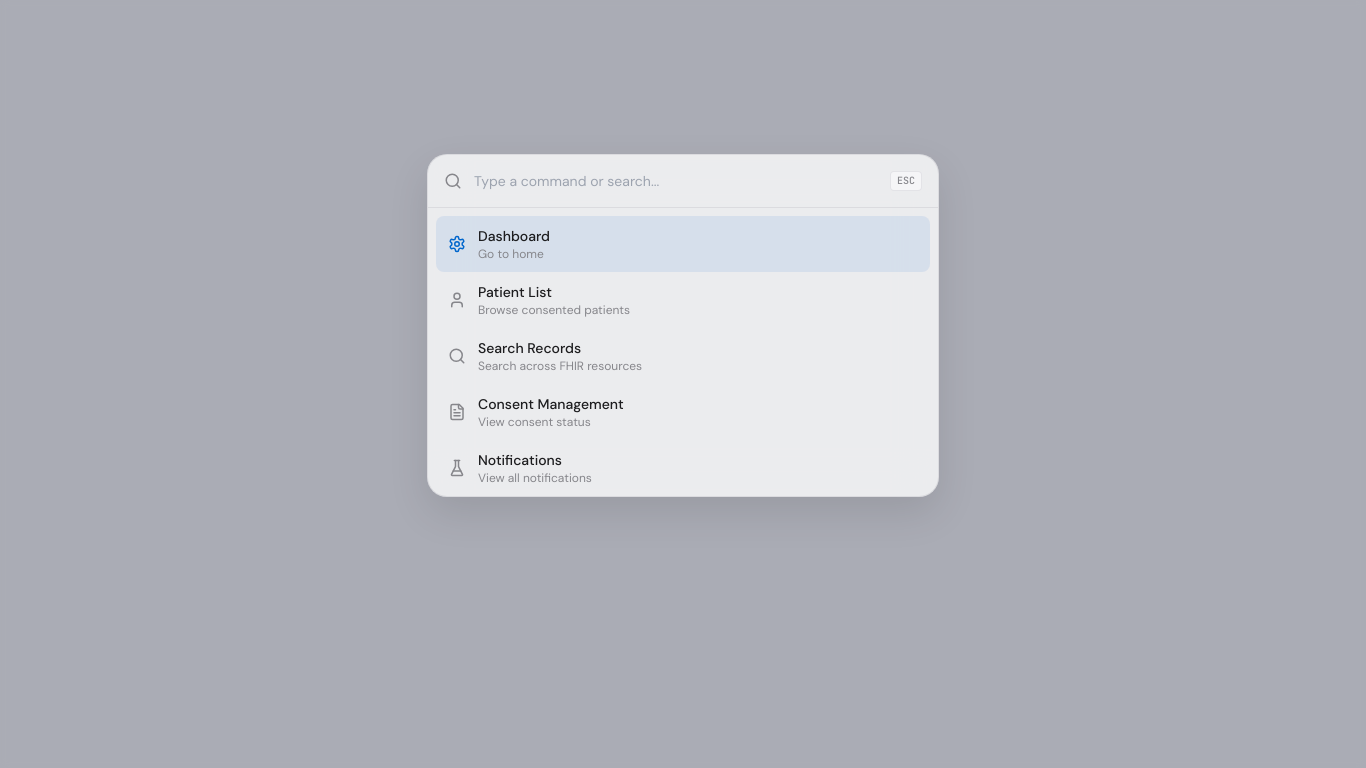
Test: CommandPalette › filters commands by keyword
The width and height of the screenshot is (1366, 768).
In the field with placeholder "Type a command or search...": (676, 181) [474,155,878,207], type "consent"
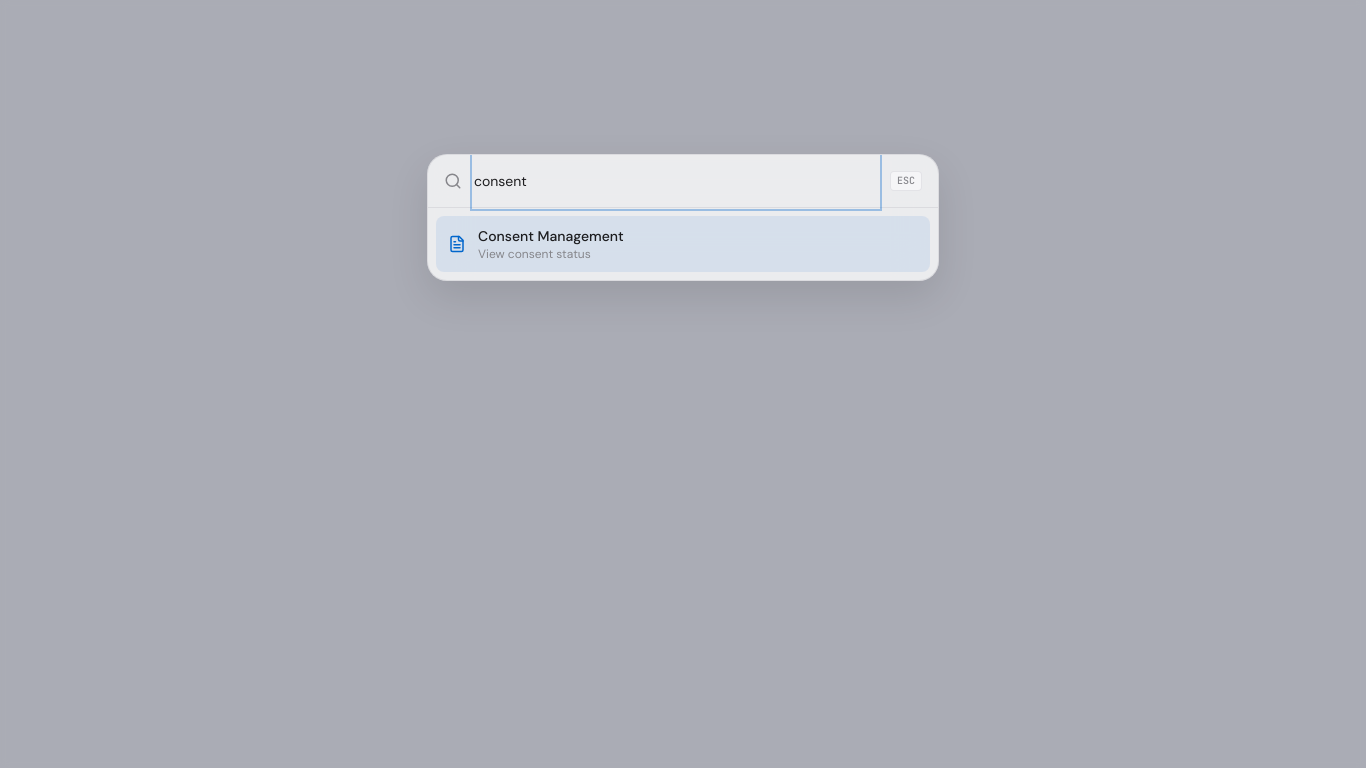
Expected: the text "Consent Management" is shown, [478,226,624,246]
Result: the button "Dashboard" is gone
